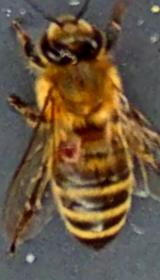varroa_mite: (57, 137, 84, 162)
